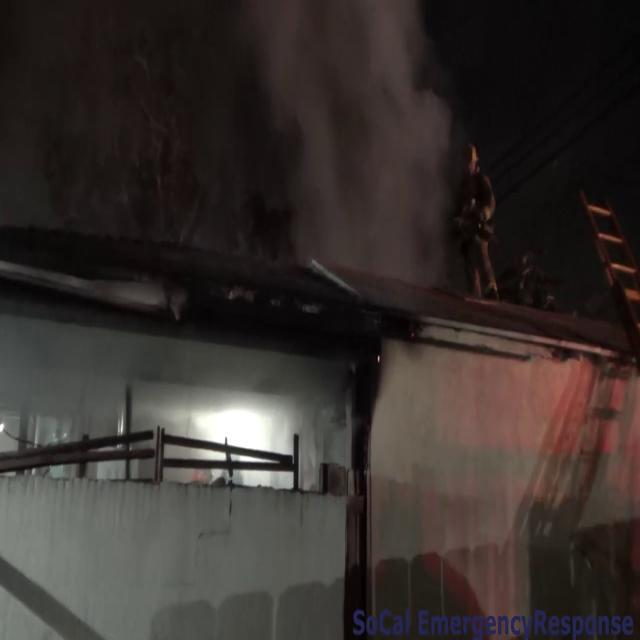Smoke: (1, 0, 477, 295)
